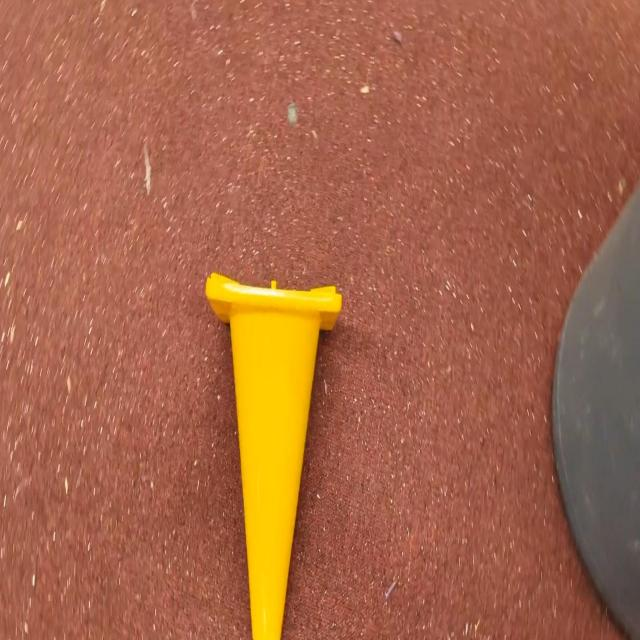frc_cone: (198, 272, 343, 640)
